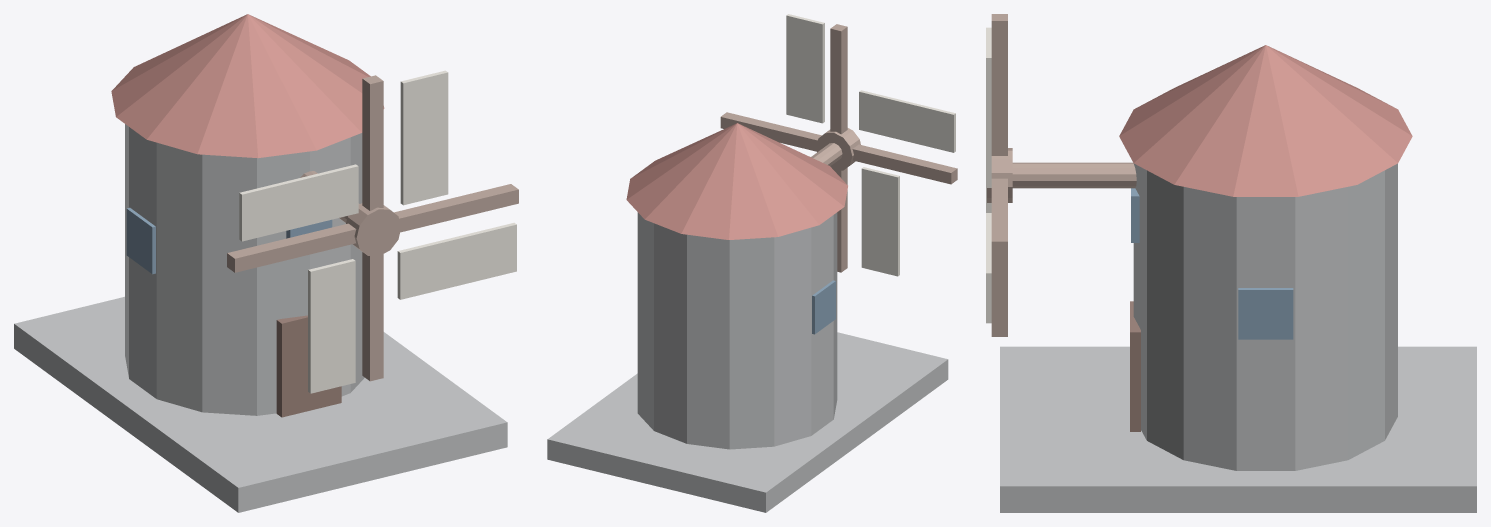
File: MILL.glb
3 renders of one model, left to right at view 1: azimuth 30°, elevation 25°; view 2: azimuth 150°, elevation 25°; view 3: azimuth 270°, elevation 25°, orthographic. The views are drawn at different scales.
Visible parts, largest first — view 1: MILL, windmill; view 2: MILL, windmill; view 3: MILL, windmill.
Part boxes in pixels (bbox=[...]): MILL: bbox=[14, 14, 507, 512]; windmill: bbox=[227, 70, 518, 393]; MILL: bbox=[547, 123, 948, 512]; windmill: bbox=[720, 14, 957, 276]; MILL: bbox=[1000, 45, 1476, 512]; windmill: bbox=[986, 14, 1136, 336].
Size of the model in its own units: 1.9 by 2.56 by 2.67.
